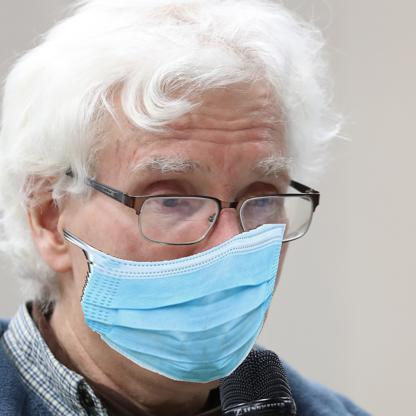mask: (56, 216, 293, 383)
